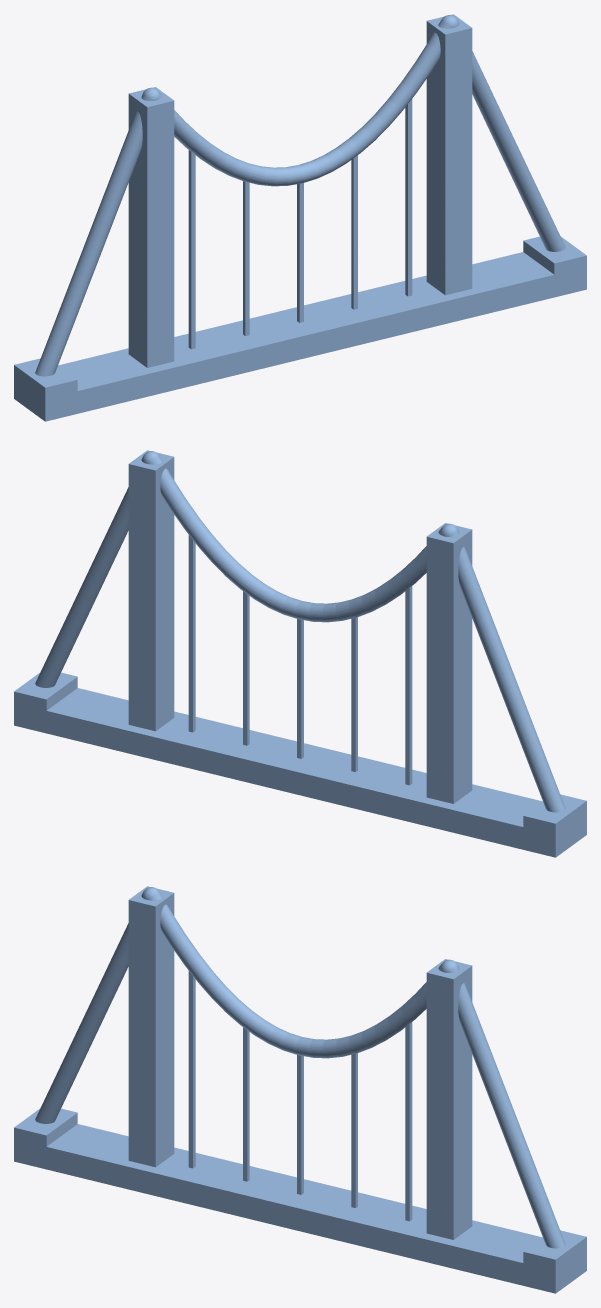
File: cable.glb
3 renders of one model, top to bottom at view 1: azimuth 30°, elevation 25°; view 2: azimuth 150°, elevation 25°; view 3: azimuth 330°, elevation 25°, orthographic.
Visible parts, largest first — view 1: cable; view 2: cable; view 3: cable.
Boxes of the visible parts, x1,y1,x2,y2 form: cable: [14, 14, 586, 421]; cable: [14, 450, 586, 857]; cable: [14, 886, 586, 1293].
Bounding box in the file's own units: 100 × 51.5 × 10.
